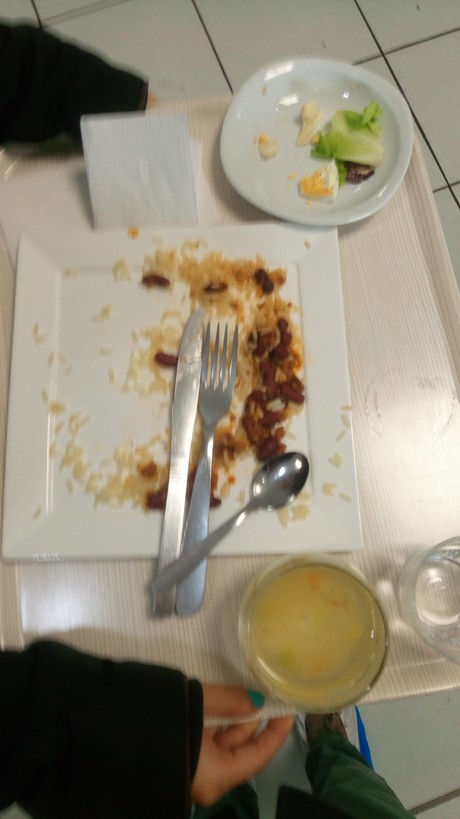cutlery: (143, 304, 234, 615), (141, 449, 312, 600)
orga: (224, 267, 313, 457), (271, 103, 378, 198)
trash: (21, 109, 216, 222)
